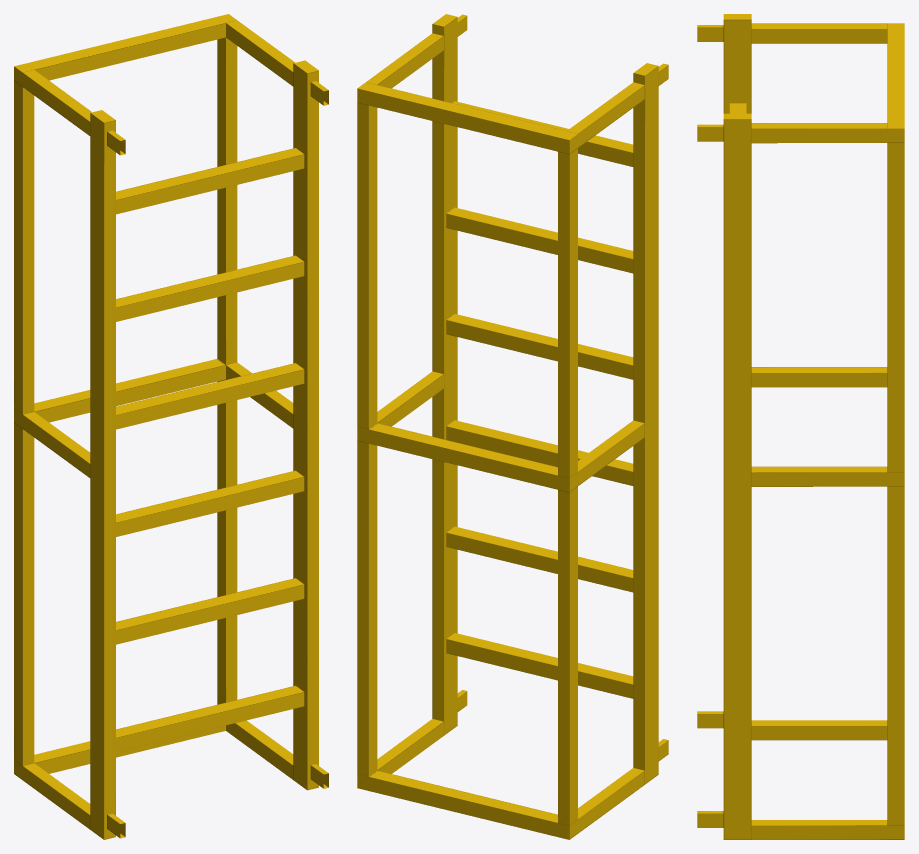
The model's file is Platerform_Metal_Stair_02.FBX.
The picture shows the model from 3 angles, left to right: view 1: azimuth 30°, elevation 25°; view 2: azimuth 150°, elevation 25°; view 3: azimuth 270°, elevation 25°; orthographic projection.
Visible parts, largest first — view 1: Platerform_Metal_Stair_02; view 2: Platerform_Metal_Stair_02; view 3: Platerform_Metal_Stair_02.
Part boxes in pixels (x1,y1,x2,y2): Platerform_Metal_Stair_02: (14,14,328,839); Platerform_Metal_Stair_02: (357,14,668,839); Platerform_Metal_Stair_02: (697,14,904,839).
Bounding box in the file's own units: 1.57 × 5 × 1.3.
Materials: 1 (1 with a texture image).
